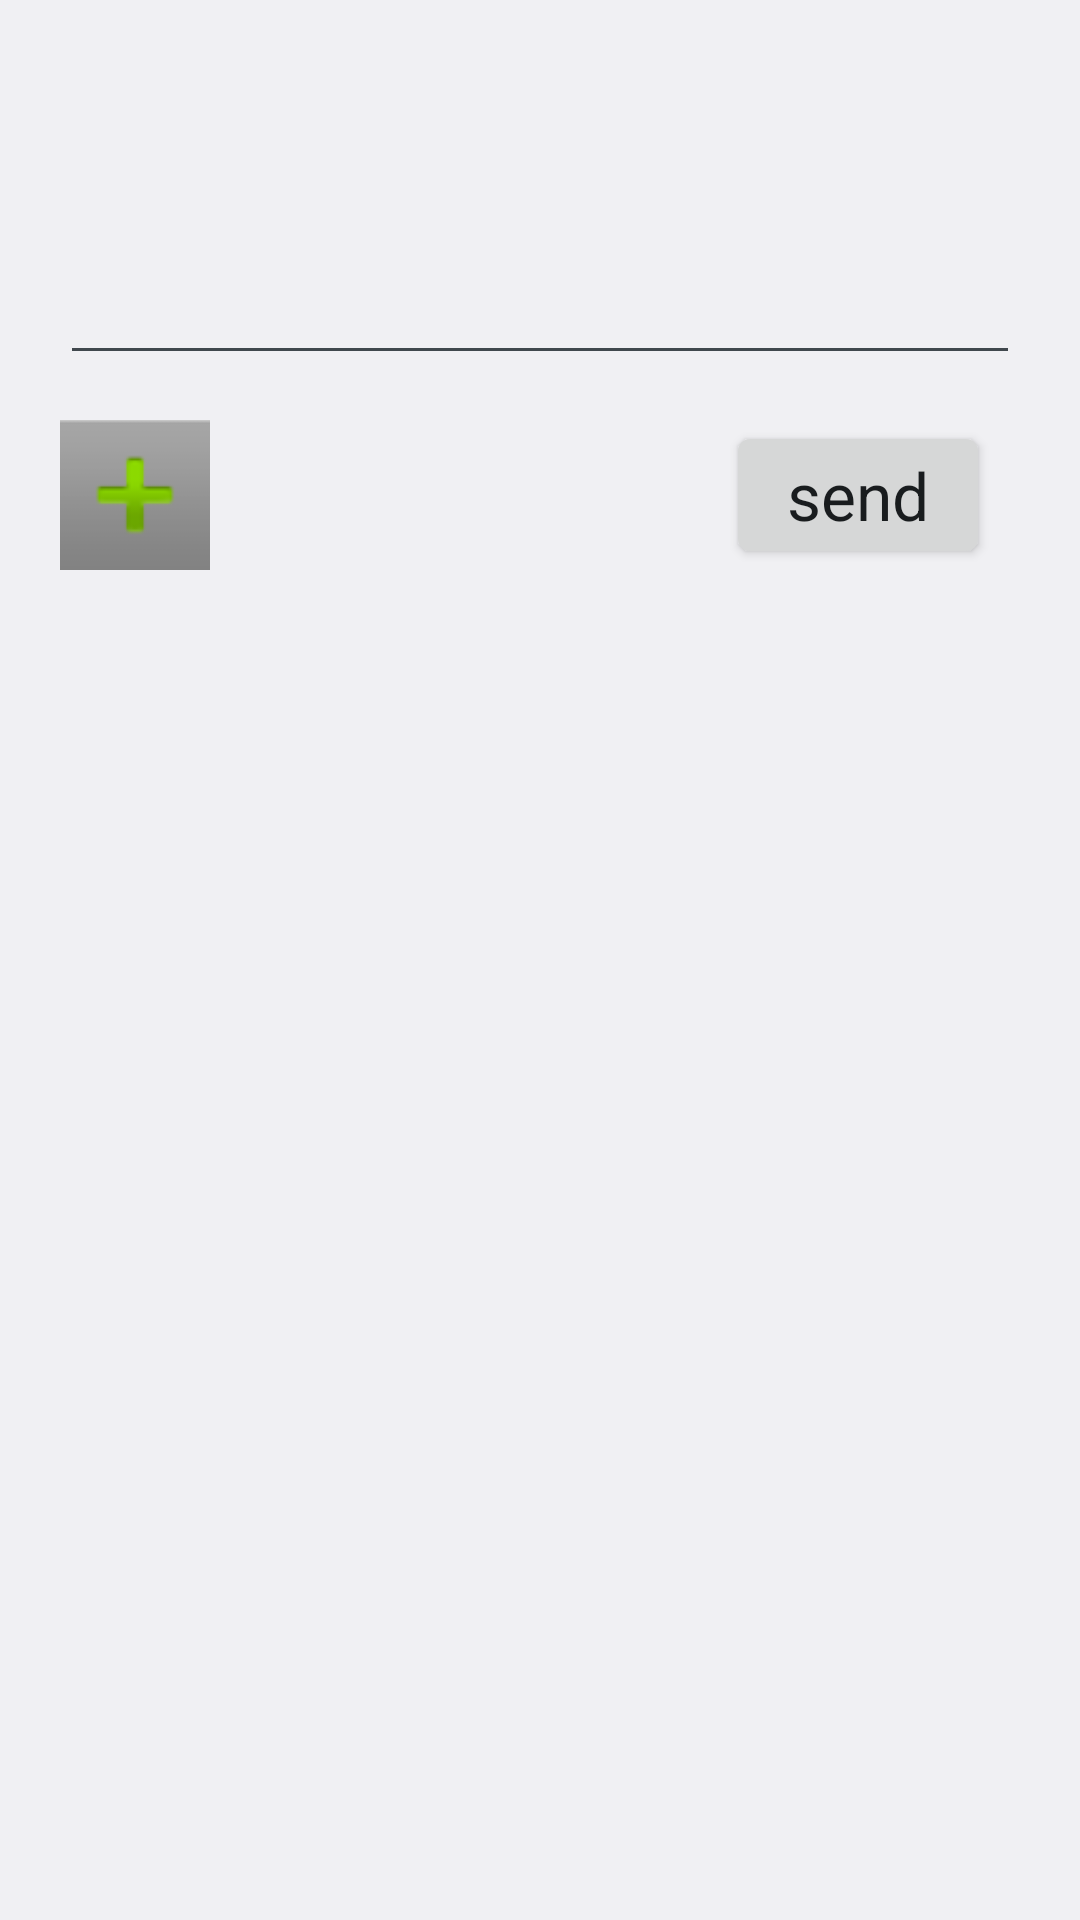

Icons on this 1080 x 1920 Android screen, each with the point to tap as (x=x, y=y):
add: (x=135, y=495)
